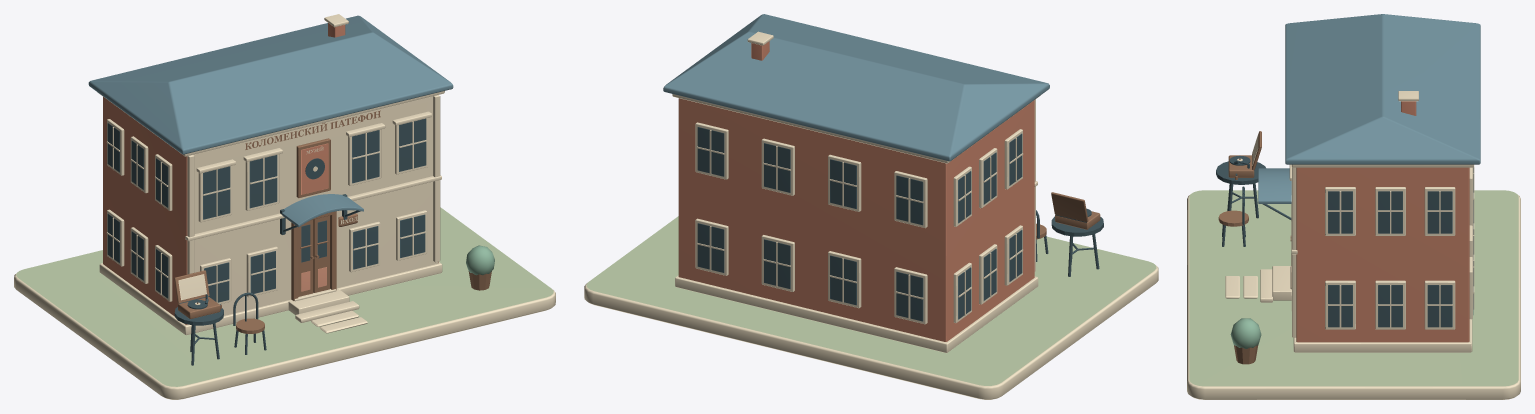
File: kolomensky-patefon.glb
3 views of the same model, side by side, from view 1: azimuth 30°, elevation 25°; view 2: azimuth 150°, elevation 25°; view 3: azimuth 270°, elevation 25° (orthographic). The views are drawn at different scales.
Visible parts, largest first — view 1: kolomensky-patefon · soft low-poly; view 2: kolomensky-patefon · soft low-poly; view 3: kolomensky-patefon · soft low-poly.
Boxes of the visible parts, left/top/right/bottom form: kolomensky-patefon · soft low-poly: left=14, top=14, right=555, bottom=399; kolomensky-patefon · soft low-poly: left=584, top=14, right=1158, bottom=399; kolomensky-patefon · soft low-poly: left=1187, top=14, right=1520, bottom=399.
Bounding box in the file's own units: 7.3 × 4.24 × 5.2.
